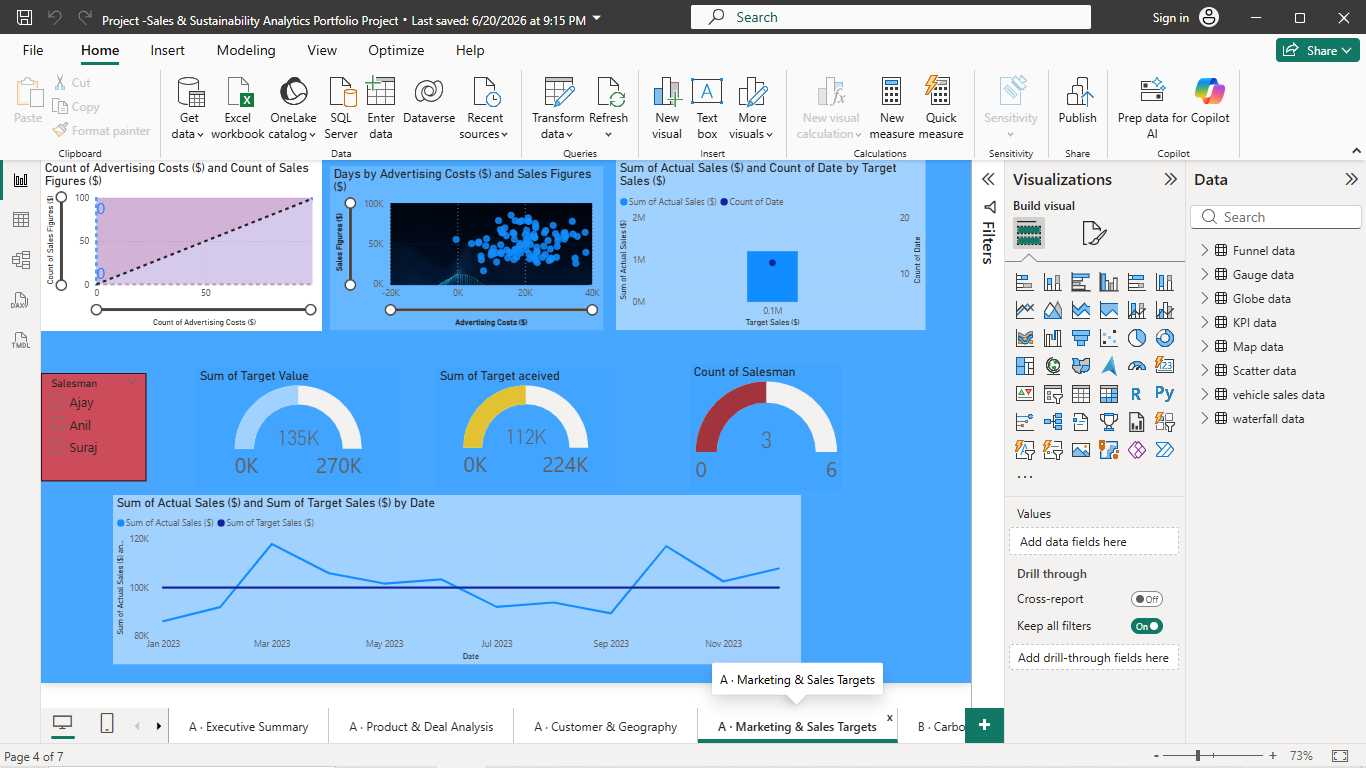

Layout of this report page (visuals, bound fields, positions):
{"tool":"powerbi","page":{"name":"PROJECT A -Marketing & Sales Target Tracking","canvas":[1280,720],"ordinal":3},"visuals":[{"type":"scatterChart","fields":{"X":["Count(Scatter data.Advertising Costs ($))"],"Y":["CountNonNull(Scatter data.Sales Figures ($))"]},"box":[0,0,385.7,234.3],"z":0},{"type":"gauge","fields":{"Y":["CountNonNull(Gauge data.Salesman)"]},"box":[892.9,281.4,210,174.3],"z":1000},{"type":"gauge","fields":{"Y":["Sum(Gauge data.Target aceived)"]},"box":[544.3,285.7,247.1,162.9],"z":2000},{"type":"gauge","fields":{"Y":["Sum(Gauge data.Target Value)"]},"box":[212.9,285.7,281.4,164.3],"z":3000},{"type":"slicer","fields":{"Values":["Gauge data.Salesman"]},"box":[0,293.2,144.5,148.6],"z":4000},{"type":"lineStackedColumnComboChart","fields":{"Y":["Sum(KPI data.Actual Sales ($))"],"Category":["KPI data.Target Sales ($)"],"Y2":["CountNonNull(KPI data.Date)"]},"box":[791.4,0,425.7,234.3],"z":5000},{"type":"lineChart","fields":{"Y":["Sum(KPI data.Actual Sales ($))","Sum(KPI data.Target Sales ($))"],"Category":["KPI data.Date"]},"box":[98.6,461.4,947.1,232.9],"z":6000},{"type":"scatterChart","fields":{"X":["Scatter data.Advertising Costs ($)"],"Y":["Scatter data.Sales Figures ($)"]},"box":[397.1,8.6,375.7,225.7],"z":7000}]}

Visuals, with their boxes on the page's 1280x720 design canvas (x1, y1, x2, y2). These are canvas units, not pixel positions in the 1366x768 screenshot, which may show the page scaled, cropped or inside an application window:
scatterChart - Count(Scatter data.Advertising Costs ($)) x CountNonNull(Scatter data.Sales Figures ($)): (left=0, top=0, right=386, bottom=234)
gauge - CountNonNull(Gauge data.Salesman): (left=893, top=281, right=1103, bottom=456)
gauge - Sum(Gauge data.Target aceived): (left=544, top=286, right=791, bottom=449)
gauge - Sum(Gauge data.Target Value): (left=213, top=286, right=494, bottom=450)
slicer - Gauge data.Salesman: (left=0, top=293, right=144, bottom=442)
lineStackedColumnComboChart - Sum(KPI data.Actual Sales ($)) x KPI data.Target Sales ($): (left=791, top=0, right=1217, bottom=234)
lineChart - Sum(KPI data.Actual Sales ($)) x Sum(KPI data.Target Sales ($)): (left=99, top=461, right=1046, bottom=694)
scatterChart - Scatter data.Advertising Costs ($) x Scatter data.Sales Figures ($): (left=397, top=9, right=773, bottom=234)
